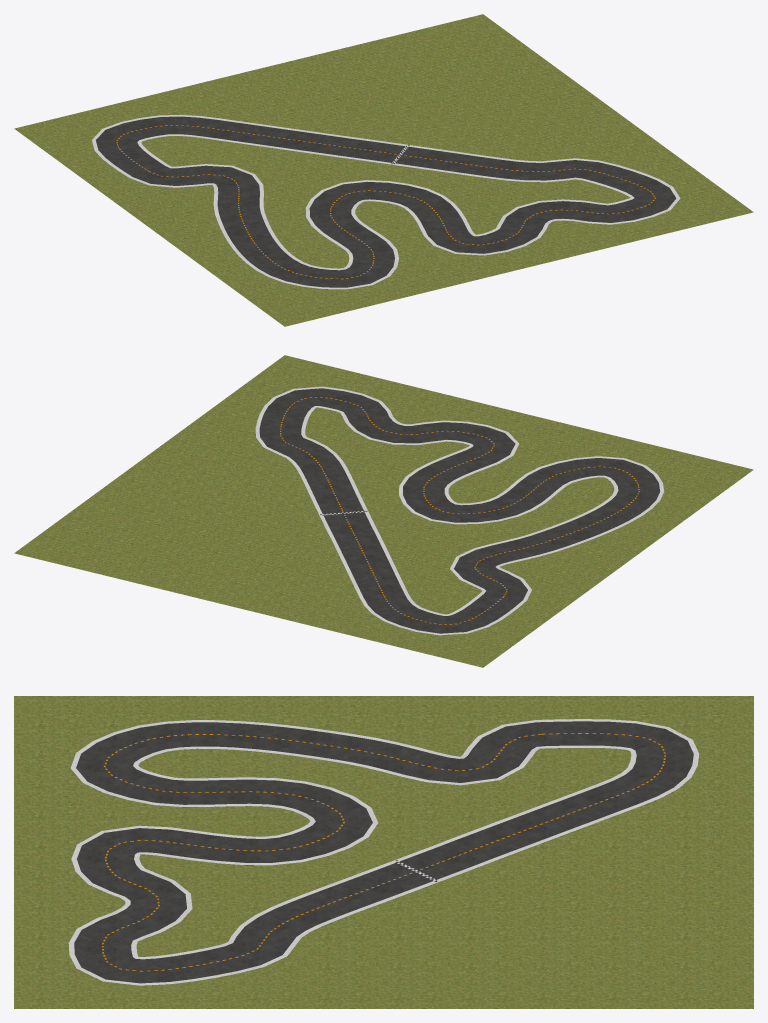
Rendered from 2022_reinvent_champ.dae.
3 views of the same model, one above another, from view 1: azimuth 30°, elevation 25°; view 2: azimuth 150°, elevation 25°; view 3: azimuth 270°, elevation 25° (orthographic). The views are drawn at different scales.
Visible parts, largest first — view 1: field, road, ol, il, cl; view 2: field, road, ol, il, cl; view 3: field, road, ol, il, cl.
Boxes of the visible parts, <box> form: field: <box>14,14,753,326</box>; road: <box>96,116,676,289</box>; ol: <box>92,114,680,289</box>; il: <box>137,134,634,270</box>; cl: <box>116,125,655,279</box>; field: <box>14,355,753,667</box>; road: <box>259,388,660,634</box>; ol: <box>255,386,664,635</box>; il: <box>301,406,618,615</box>; cl: <box>280,397,639,624</box>; field: <box>14,696,753,1008</box>; road: <box>74,721,693,985</box>; ol: <box>68,719,699,985</box>; il: <box>131,745,636,959</box>; cl: <box>102,733,665,971</box>.
Bounding box in the file's own units: 10.33 × 10.32 × 0.0025.
6 materials, 6 textured.
